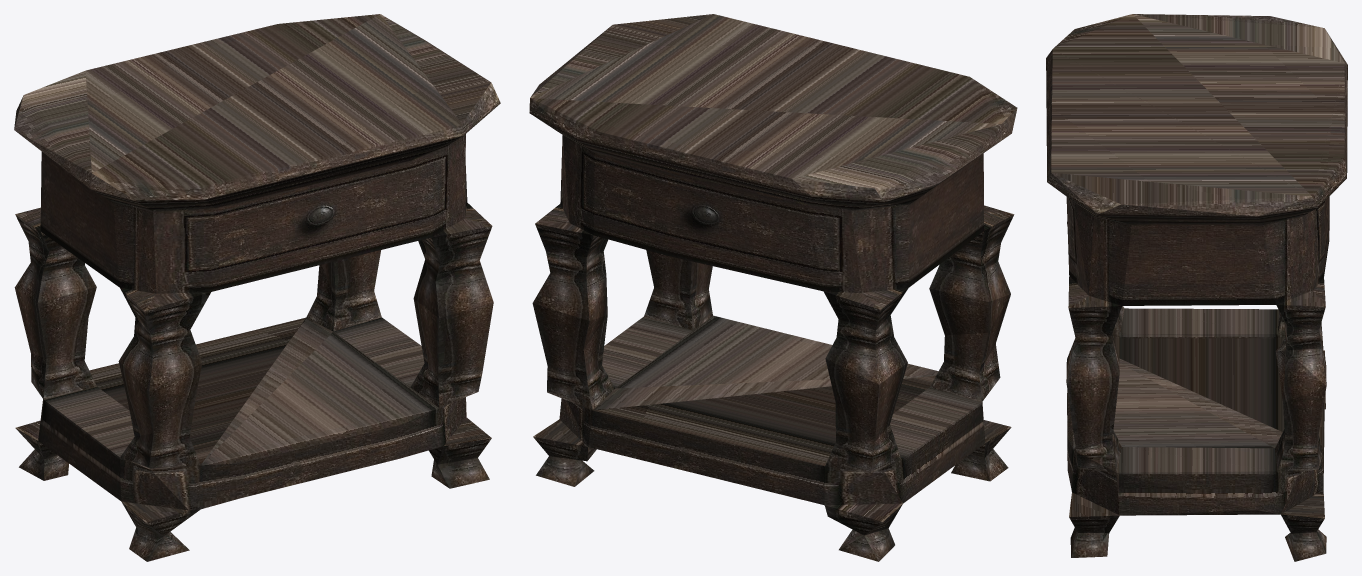
The model's file is table_med.glb.
3 renders of one model, left to right at view 1: azimuth 30°, elevation 25°; view 2: azimuth 150°, elevation 25°; view 3: azimuth 270°, elevation 25°, orthographic.
Parts seen in each view (by area): view 1: table_med; view 2: table_med; view 3: table_med.
Boxes of the visible parts, left/top/right/bottom form: table_med: left=14, top=14, right=500, bottom=561; table_med: left=529, top=14, right=1017, bottom=561; table_med: left=1046, top=14, right=1347, bottom=561.
Bounding box in the file's own units: 0.8973 × 0.7974 × 0.5866.
1 material, 1 textured.
